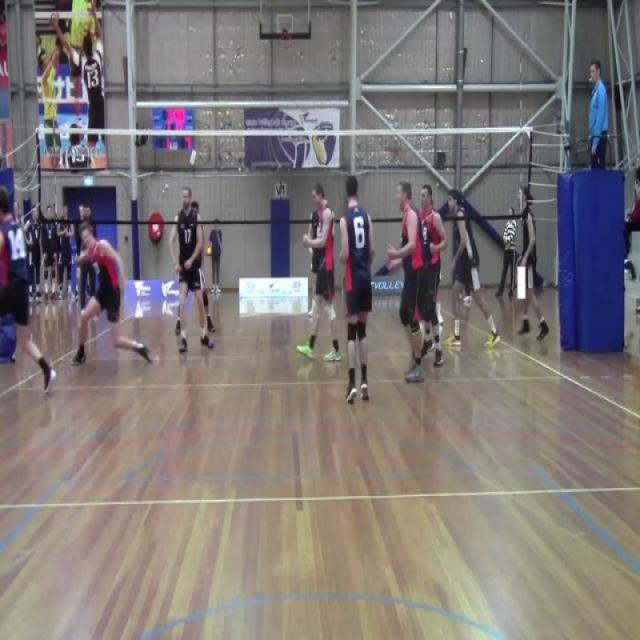volleyball: (205, 245, 212, 258)
